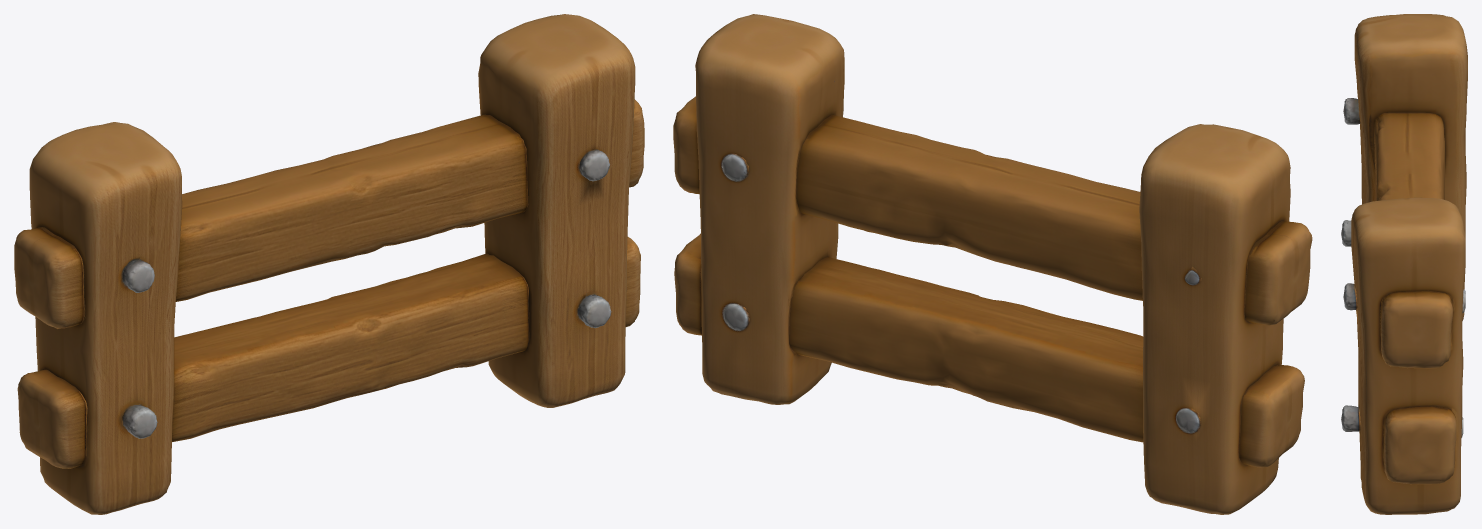
The model's file is tripo_convert_ae513377-3383-4cae-b753-9a2b2c2d1e2e.fbx.
3 views of the same model, side by side, from view 1: azimuth 30°, elevation 25°; view 2: azimuth 150°, elevation 25°; view 3: azimuth 270°, elevation 25° (orthographic). The views are drawn at different scales.
Parts seen in each view (by area): view 1: tripo_node_ae513377; view 2: tripo_node_ae513377; view 3: tripo_node_ae513377.
Part boxes in pixels (x1,y1,x2,y2): tripo_node_ae513377: (14,14,644,514); tripo_node_ae513377: (673,14,1312,514); tripo_node_ae513377: (1341,14,1467,514).
Size of the model in its own units: 0.998 by 0.5527 by 0.2168.
Materials: 1 (1 with a texture image).
